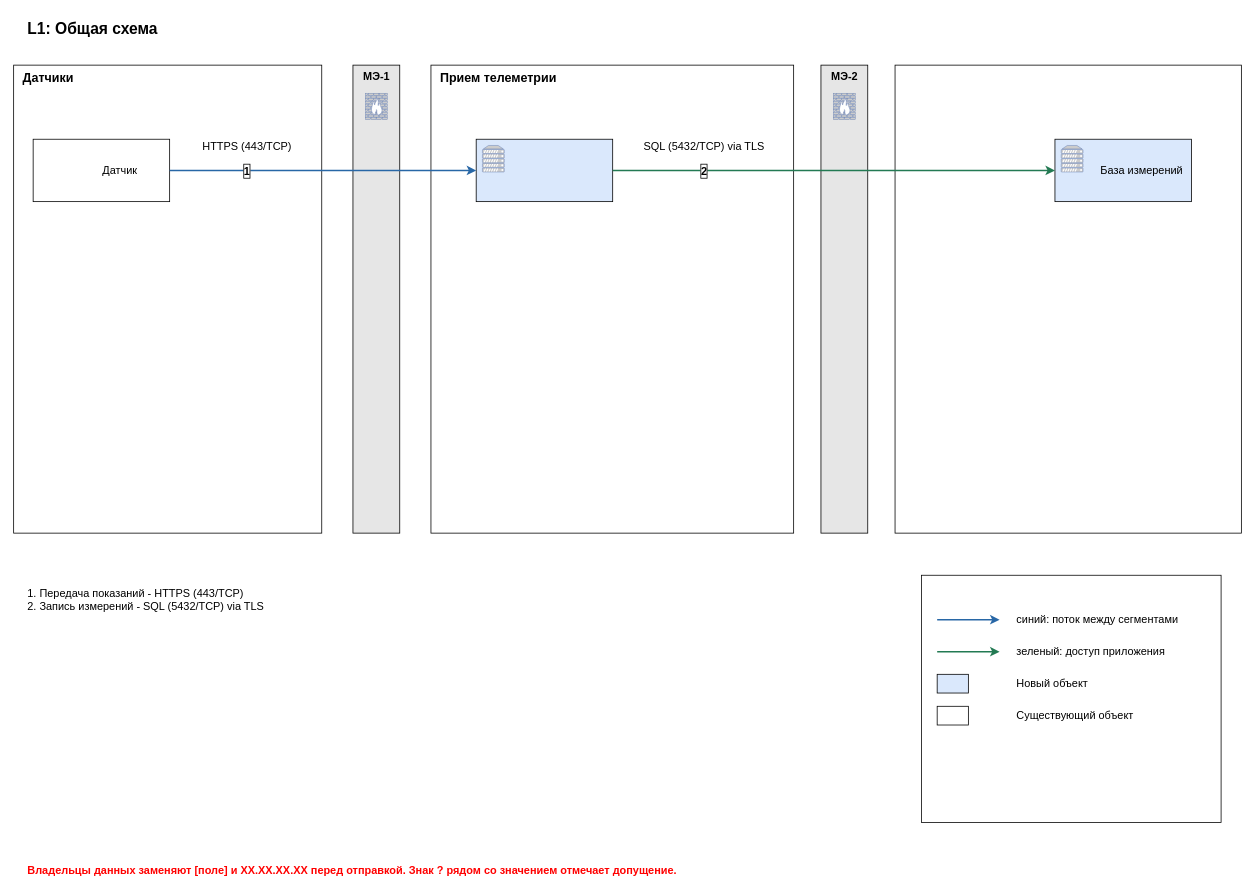
This 1255x893 diagram has some shape labels left out. The shapes that lost their labels are listed below. From the top down, each one's box as (x1, y1, x2, y2) in pixels, then its label:
(475, 138, 613, 202): Сборщик
(894, 64, 1241, 533): Хранение измерений
(921, 574, 1221, 823): Легенда
